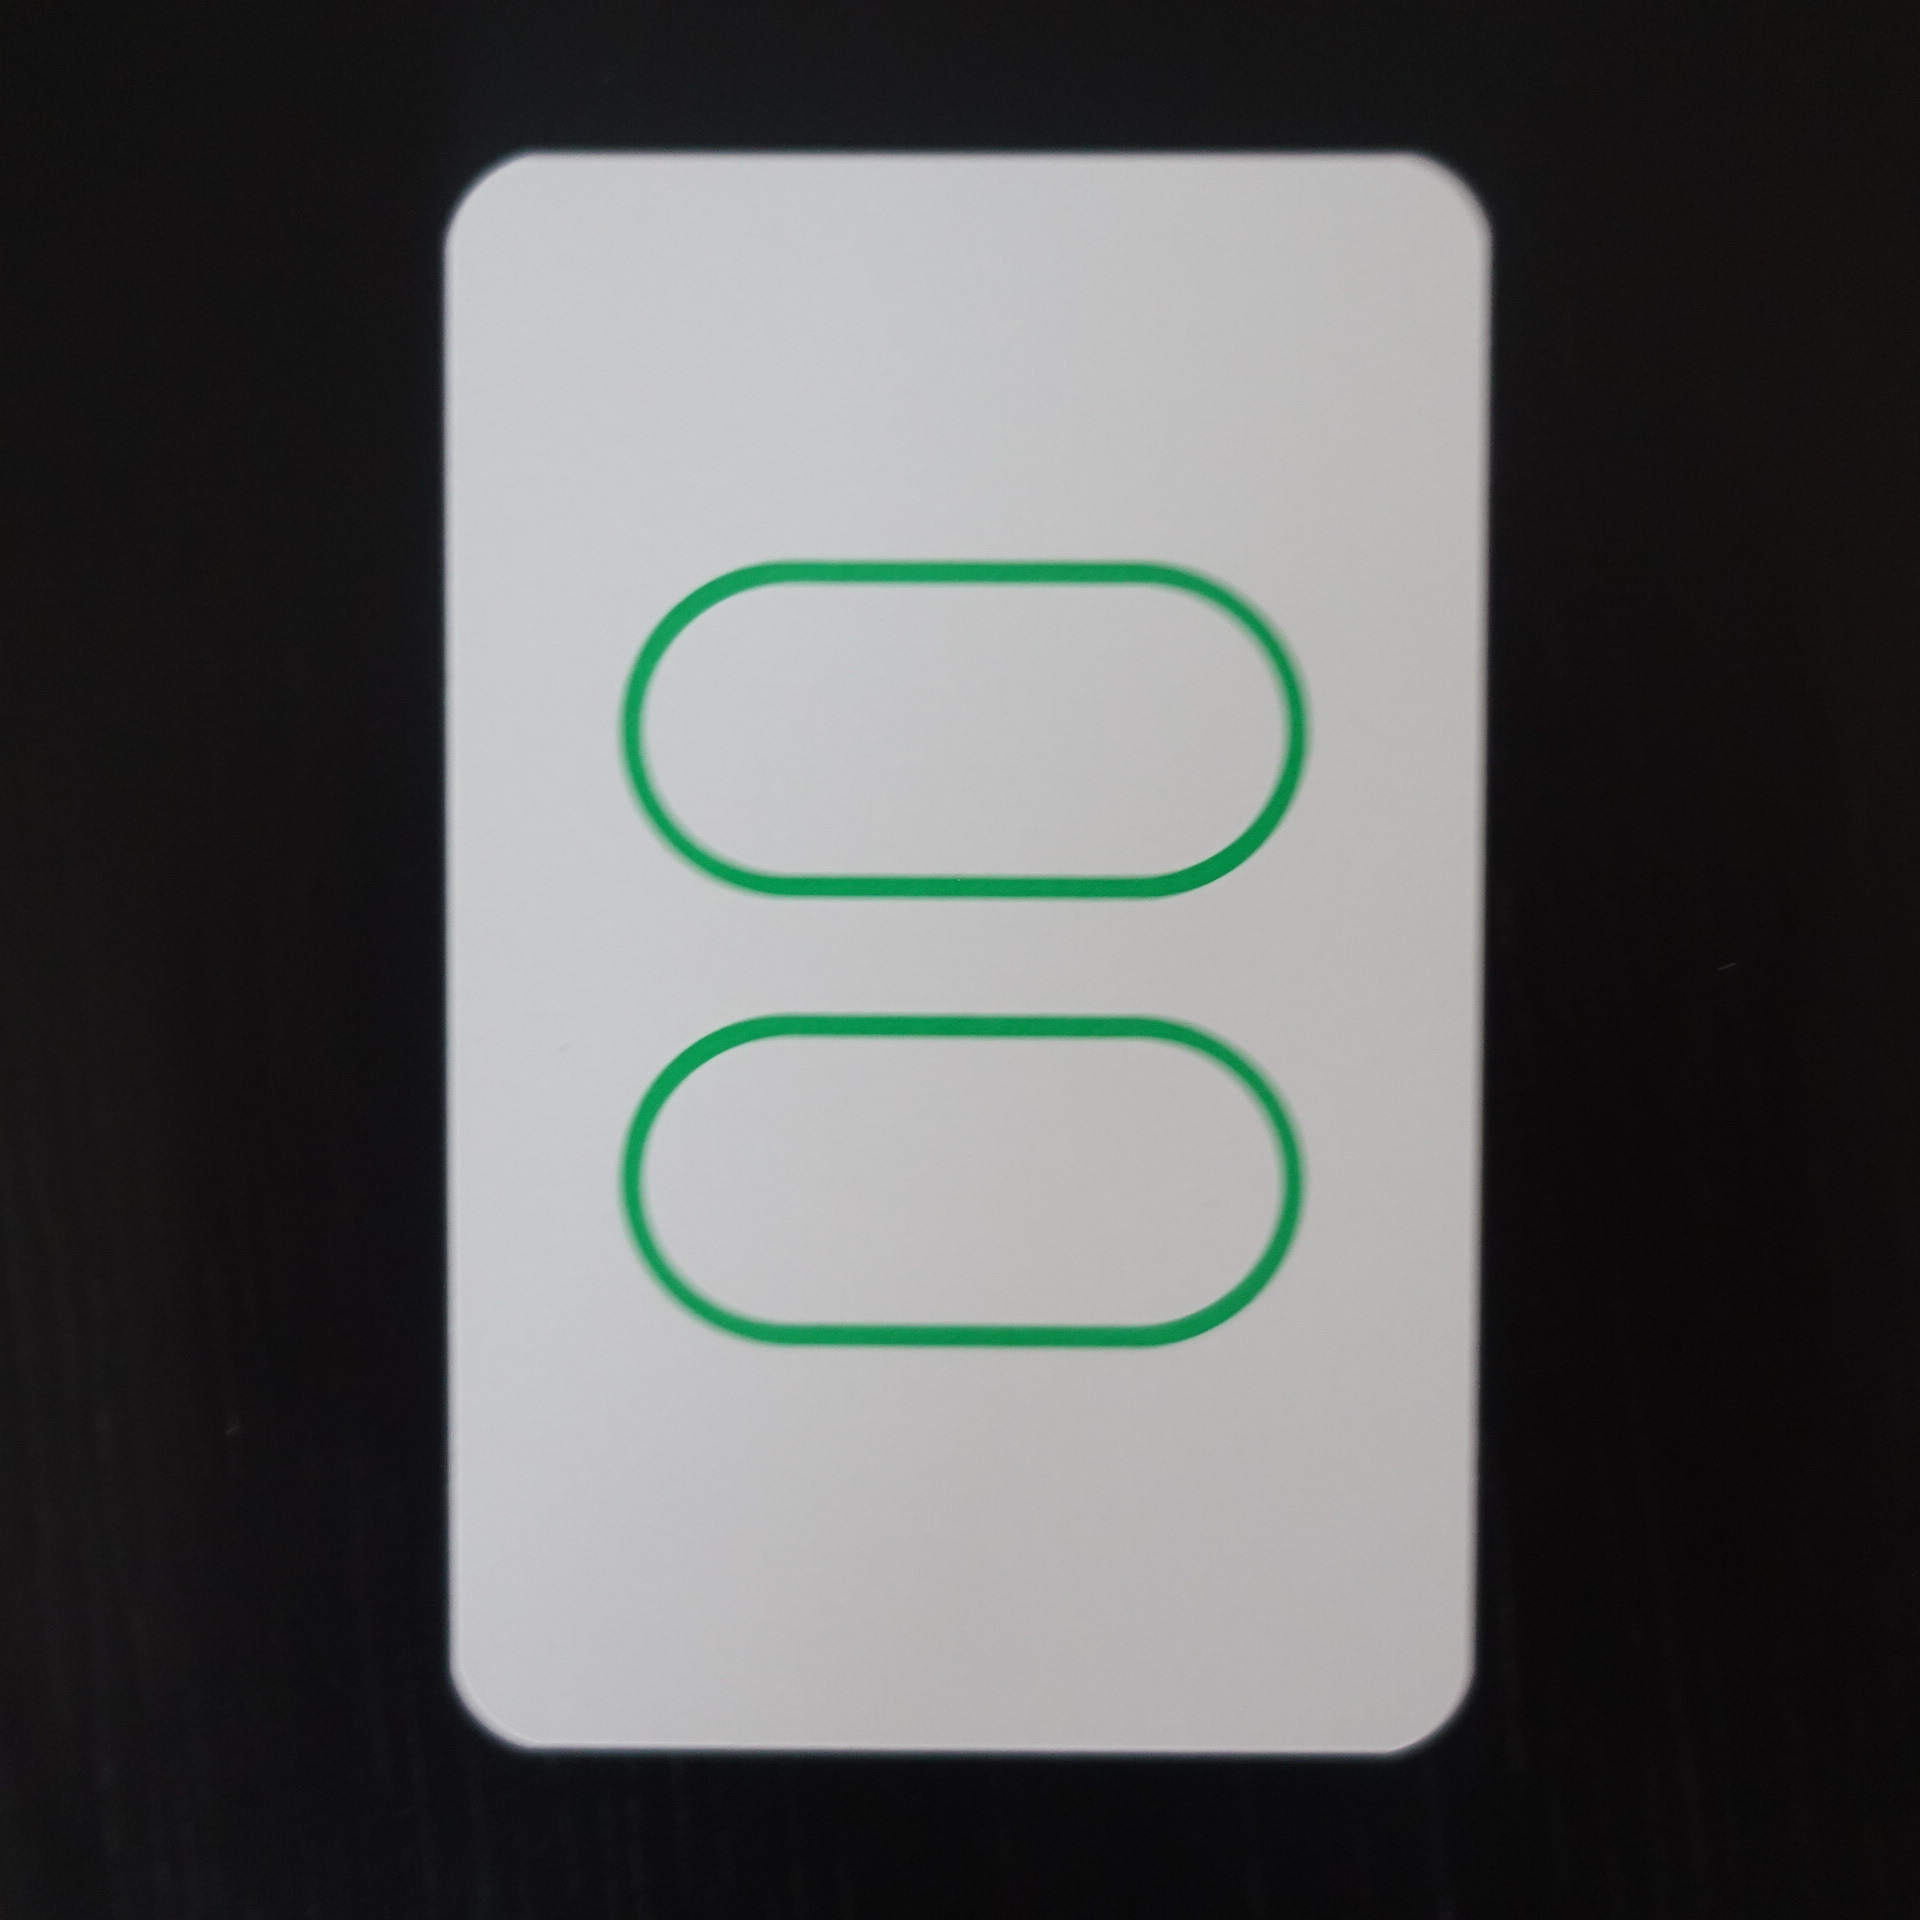c-2-u-o-g: (411, 125, 1521, 1792)
